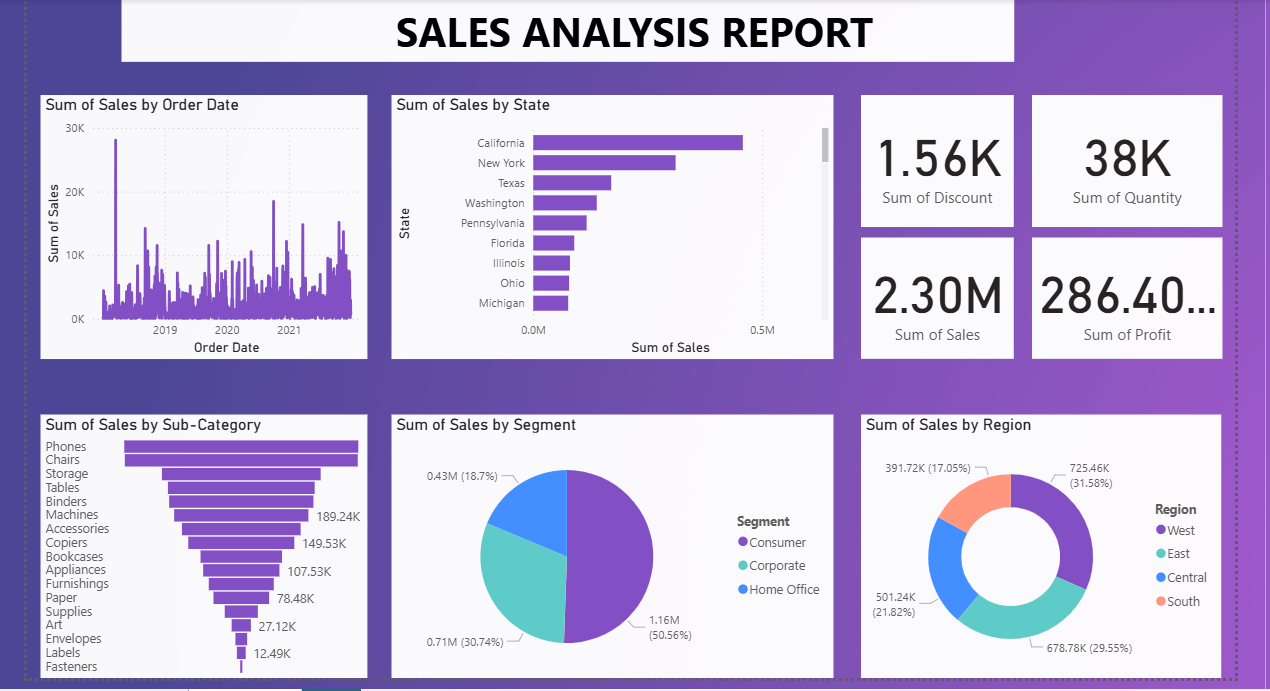

This screenshot's page, from the dashboard's own definition file:
{"tool":"powerbi","page":{"name":"Page 1","canvas":[1280,720],"ordinal":0},"visuals":[{"type":"donutChart","fields":{"Category":["Orders.Region"],"Y":["Sum(Orders.Sales)"]},"box":[885,440,381.7,280],"z":0},{"type":"funnel","fields":{"Category":["Orders.Sub-Category"],"Y":["Sum(Orders.Sales)"]},"box":[15,440,346.7,280],"z":1000},{"type":"pieChart","fields":{"Category":["Orders.Segment"],"Y":["Sum(Orders.Sales)"]},"box":[386.7,440,468.3,280],"z":2000},{"type":"lineChart","fields":{"Category":["Orders.Order Date"],"Y":["Sum(Orders.Sales)"]},"box":[15,101.7,346.7,280],"z":3000},{"type":"clusteredBarChart","fields":{"Category":["Orders.State"],"Y":["Sum(Orders.Sales)"]},"box":[386.7,101.7,468.3,280],"z":4000},{"type":"card","fields":{"Values":["Sum(Orders.Sales)"]},"box":[885,253.3,161.7,128.3],"z":5000},{"type":"card","fields":{"Values":["Sum(Orders.Profit)"]},"box":[1065,253.3,201.7,128.3],"z":6000},{"type":"card","fields":{"Values":["Sum(Orders.Discount)"]},"box":[885,101.7,161.7,140],"z":7000},{"type":"card","fields":{"Values":["Sum(Orders.Quantity)"]},"box":[1065,101.7,201.7,140],"z":8000},{"type":"textbox","box":[100,0,946.7,66.7],"z":9000}]}

Visuals, with their boxes in screenshot pixels (x1, y1, x2, y2):
donutChart - Orders.Region x Sum(Orders.Sales): bbox(858, 413, 1219, 678)
funnel - Orders.Sub-Category x Sum(Orders.Sales): bbox(34, 413, 362, 678)
pieChart - Orders.Segment x Sum(Orders.Sales): bbox(386, 413, 829, 678)
lineChart - Orders.Order Date x Sum(Orders.Sales): bbox(34, 93, 362, 358)
clusteredBarChart - Orders.State x Sum(Orders.Sales): bbox(386, 93, 829, 358)
card - Sum(Orders.Sales): bbox(858, 237, 1011, 358)
card - Sum(Orders.Profit): bbox(1028, 237, 1219, 358)
card - Sum(Orders.Discount): bbox(858, 93, 1011, 226)
card - Sum(Orders.Quantity): bbox(1028, 93, 1219, 226)
textbox: bbox(115, 0, 1011, 60)
